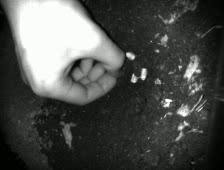corn: (123, 50, 138, 62), (128, 70, 140, 85), (139, 64, 149, 82)
